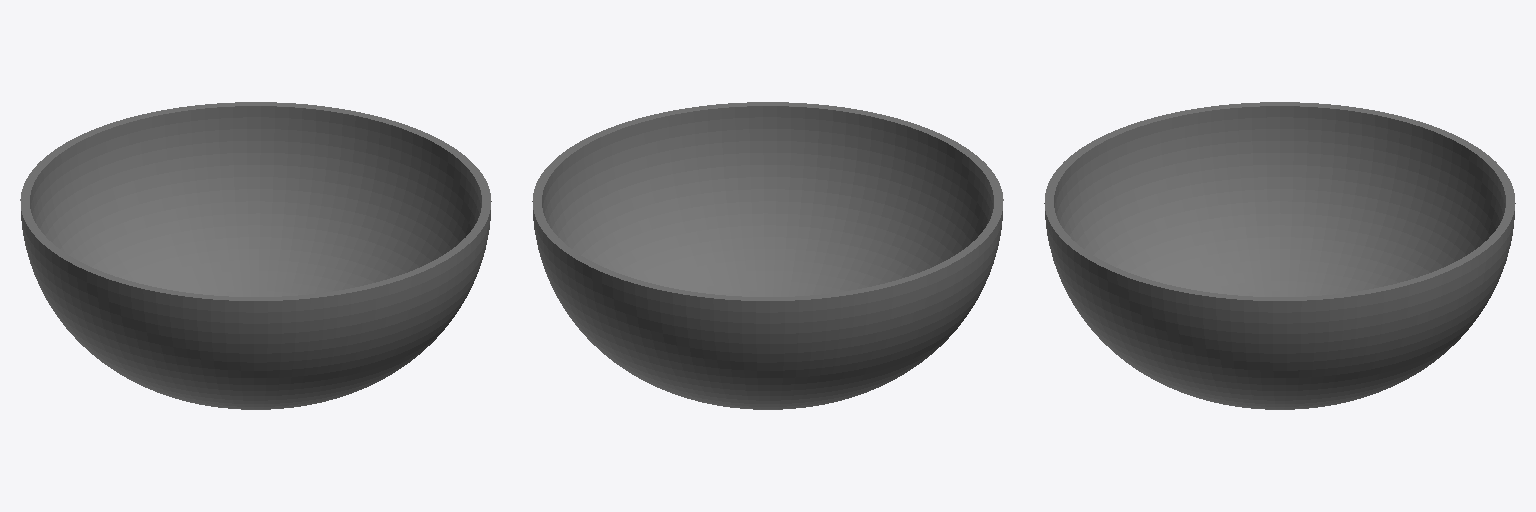
The robot description file, URDF, robot "marking_final":
<?xml version="1.0"?>
<robot name="marking_final">
  <link name="world"/>

  <material name="grey">
    <color rgba="0.5 0.5 0.5 1.0"/>
  </material>

  <link name="marking_final_link">
    <inertial>
      <mass value="1.0"/> 
      <origin xyz="0 0 0"/>
      <inertia ixx="0.01" ixy="0" ixz="0" iyy="0.01" iyz="0" izz="0.01"/>
    </inertial>
    
    <visual>
      <geometry>
        <mesh filename="package://so101_description/meshes/bowl.stl" scale="0.001 0.001 0.001"/>
      </geometry>
      <material name="grey"/>
    </visual>

    <collision>
      <geometry>
        <mesh filename="package://so101_description/meshes/bowl.stl" scale="0.001 0.001 0.001"/>
      </geometry>
    </collision>
  </link>

  <joint name="world_to_marking_final" type="fixed">
    <parent link="world"/>
    <child link="marking_final_link"/>
  </joint>

  <gazebo reference="marking_final_link">
    <material>Gazebo/Grey</material>
    <mu1>1.0</mu1>
    <mu2>1.0</mu2>
    <self_collide>true</self_collide>
  </gazebo>
  
</robot>

--- Render facts (derived) ---
3 views of the same robot in one strip: view 1: azimuth 30°, elevation 25°; view 2: azimuth 150°, elevation 25°; view 3: azimuth 270°, elevation 25° (orthographic).
Robot: marking_final — 2 links, 1 joints (1 fixed); root link world; default pose: all joints at 0.
Links seen in each view (by area): view 1: marking_final_link; view 2: marking_final_link; view 3: marking_final_link.
Boxes of the visible links, left/top/right/bottom form: marking_final_link: left=20, top=102, right=491, bottom=409; marking_final_link: left=532, top=102, right=1003, bottom=409; marking_final_link: left=1044, top=102, right=1515, bottom=409.
Bounding box of the posed robot: 0.1 × 0.1 × 0.04 m (x, y, z).
1 mesh visuals loaded from 1 distinct referenced files (1 binary STL).
